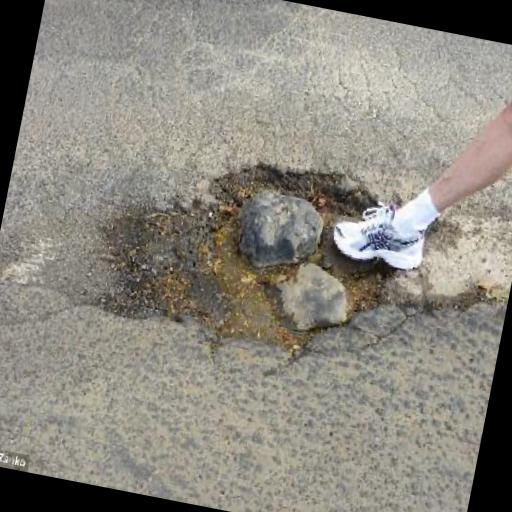pothole: (80, 126, 415, 374)
